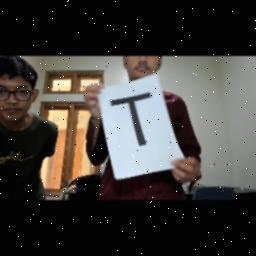t: (108, 90, 160, 152)
